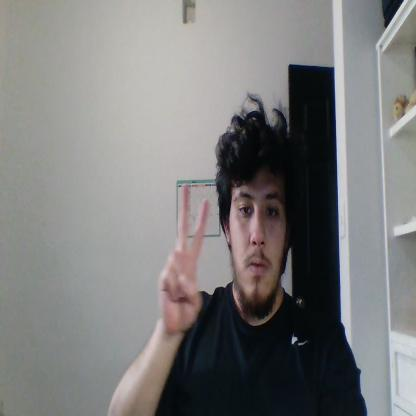V: (158, 183, 209, 332)
